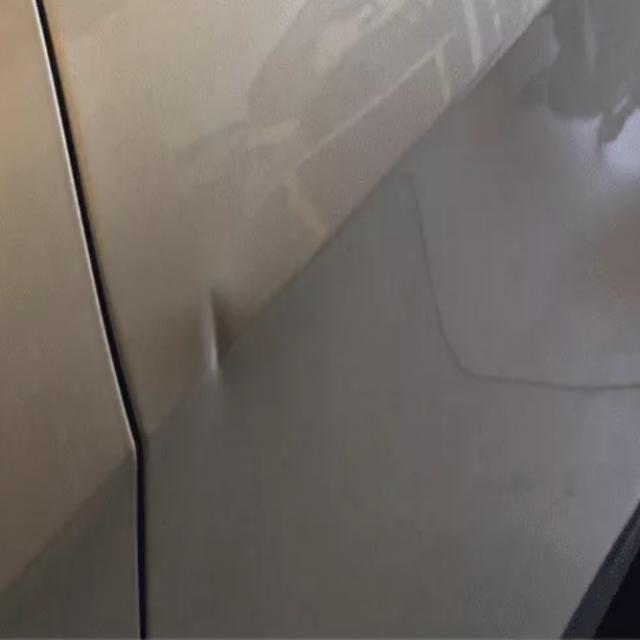dents: (176, 250, 258, 405)
